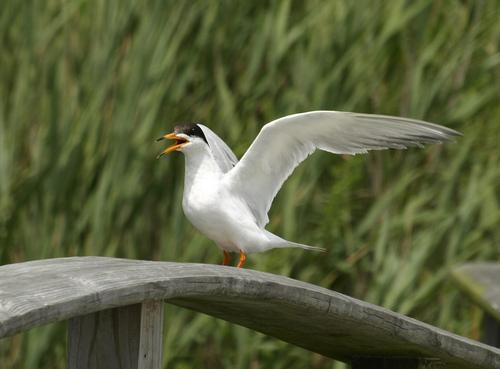bird: (147, 109, 464, 269)
